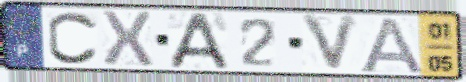2: (238, 17, 279, 68)
A: (355, 15, 427, 76), (167, 11, 232, 70)
C: (45, 9, 101, 66)
V: (298, 13, 363, 76)
X: (99, 9, 157, 69)
